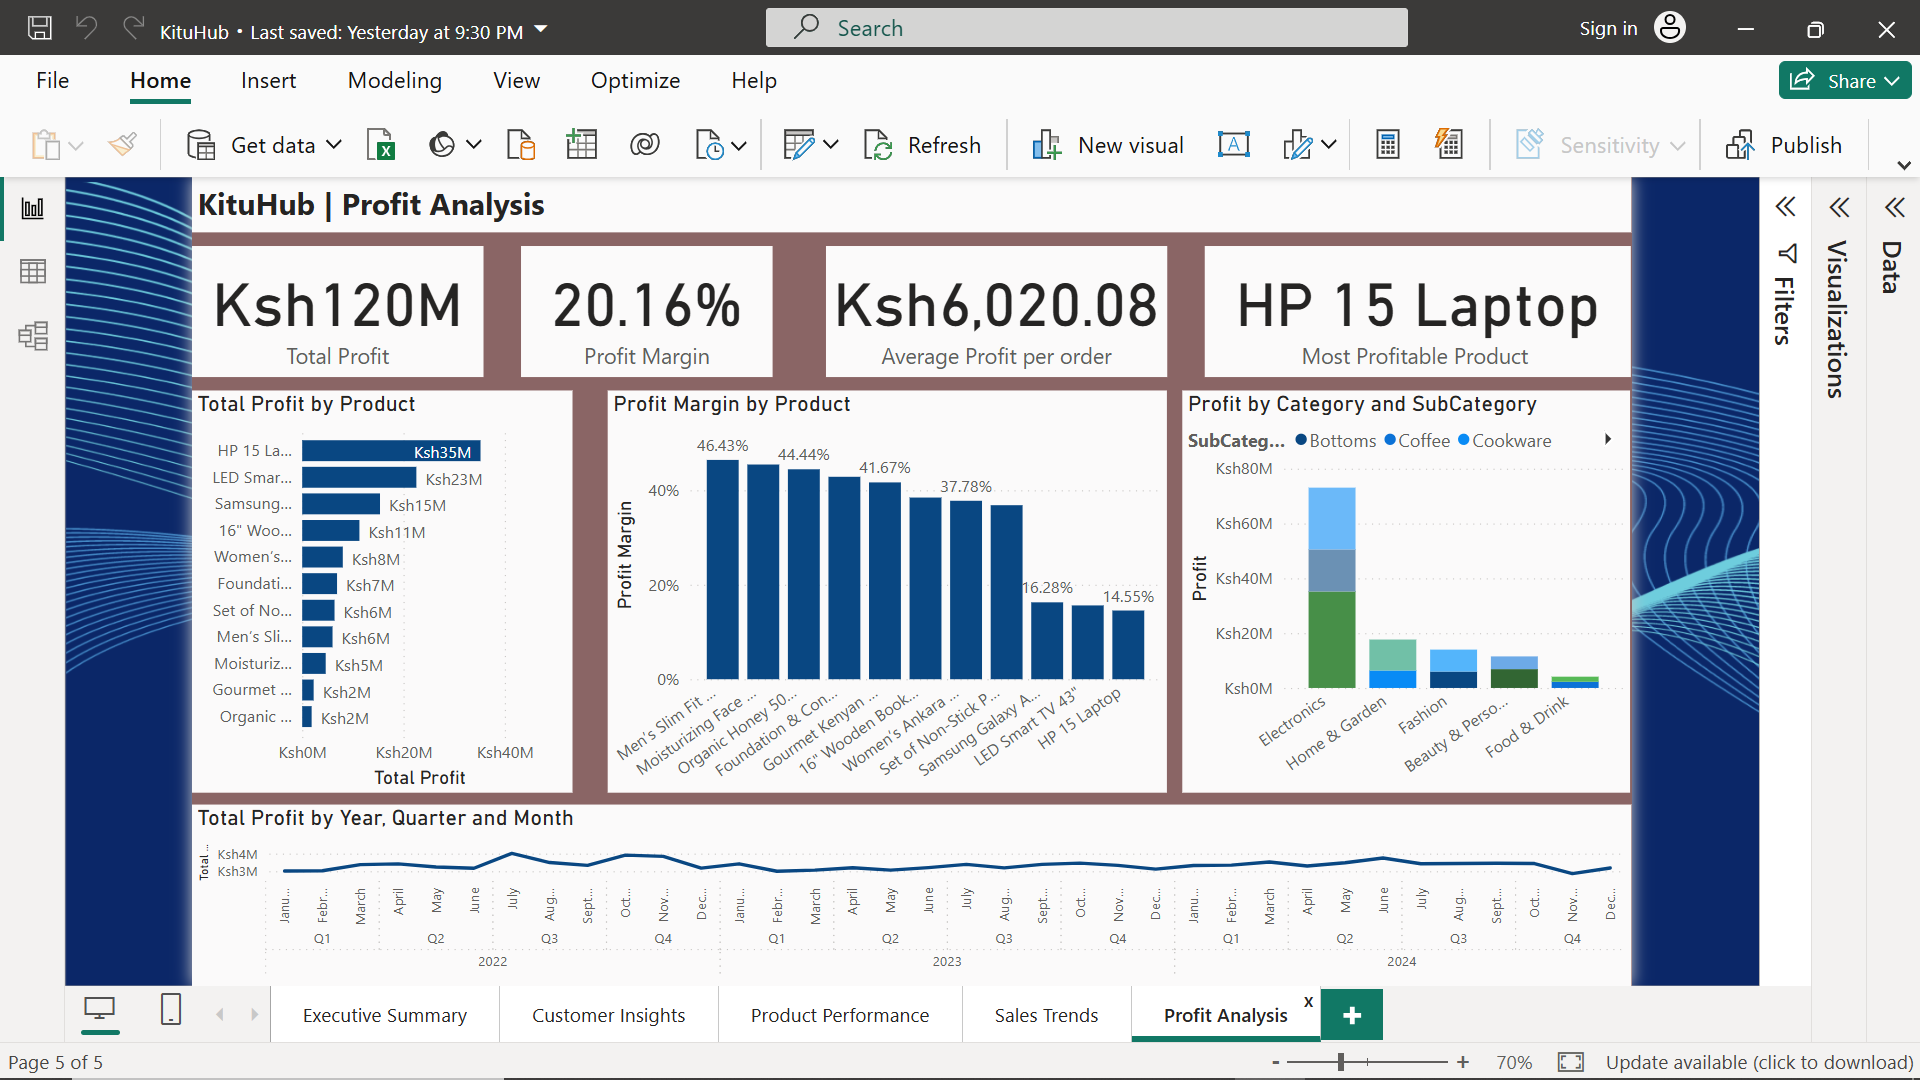

The dashboard page shown, as its layout file describes it:
{"tool":"powerbi","page":{"name":"Profit Analysis","canvas":[1280,720],"ordinal":4},"visuals":[{"type":"textbox","box":[0,0,1279.5,49.3],"z":0},{"type":"card","fields":{"Values":["_Measures.Total Profit"]},"box":[0,61.7,259.1,116.3],"z":1000},{"type":"card","fields":{"Values":["_Measures.Profit Margin"]},"box":[292.5,61.7,223.8,116.3],"z":2000},{"type":"card","fields":{"Values":["_Measures.Average Profit per order"]},"box":[563.9,61.7,303.1,116.3],"z":3000},{"type":"card","fields":{"Values":["_Measures.Most Profitable Product Name"]},"box":[900.6,61.7,378.9,116.3],"z":4000},{"type":"clusteredBarChart","fields":{"Y":["_Measures.Total Profit"],"Category":["Products.ProductName"]},"box":[0,190.3,338.4,357.8],"z":5000},{"type":"clusteredColumnChart","fields":{"Y":["_Measures.Profit Margin"],"Category":["Products.ProductName"]},"box":[370.1,190.3,497,357.8],"z":6000},{"type":"columnChart","fields":{"Category":["Products.Category"],"Series":["Products.SubCategory"],"Y":["Sum(sales.Profit)"]},"box":[881.2,190.3,398.3,357.8],"z":7000},{"type":"lineChart","fields":{"Category":["sales.Order Date Hierarchy.Year","sales.Order Date Hierarchy.Quarter","sales.Order Date Hierarchy.Month"],"Y":["_Measures.Total Profit"]},"box":[0,558.7,1279.5,162.1],"z":8000}]}

Visuals, with their boxes on the page's 1280x720 design canvas (x1, y1, x2, y2). These are canvas units, not pixel positions in the 1920x1080 screenshot, which may show the page scaled, cropped or inside an application window:
textbox: pyautogui.locateOnScreen(0, 0, 1280, 49)
card - _Measures.Total Profit: pyautogui.locateOnScreen(0, 62, 259, 178)
card - _Measures.Profit Margin: pyautogui.locateOnScreen(292, 62, 516, 178)
card - _Measures.Average Profit per order: pyautogui.locateOnScreen(564, 62, 867, 178)
card - _Measures.Most Profitable Product Name: pyautogui.locateOnScreen(901, 62, 1280, 178)
clusteredBarChart - _Measures.Total Profit x Products.ProductName: pyautogui.locateOnScreen(0, 190, 338, 548)
clusteredColumnChart - _Measures.Profit Margin x Products.ProductName: pyautogui.locateOnScreen(370, 190, 867, 548)
columnChart - Products.Category x Products.SubCategory: pyautogui.locateOnScreen(881, 190, 1280, 548)
lineChart - sales.Order Date Hierarchy.Year x sales.Order Date Hierarchy.Quarter: pyautogui.locateOnScreen(0, 559, 1280, 721)
